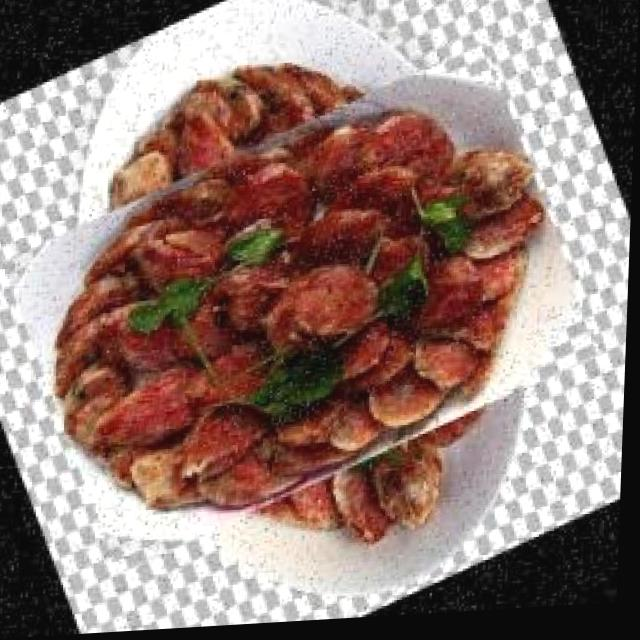chinese_sausage: (17, 17, 592, 603)
